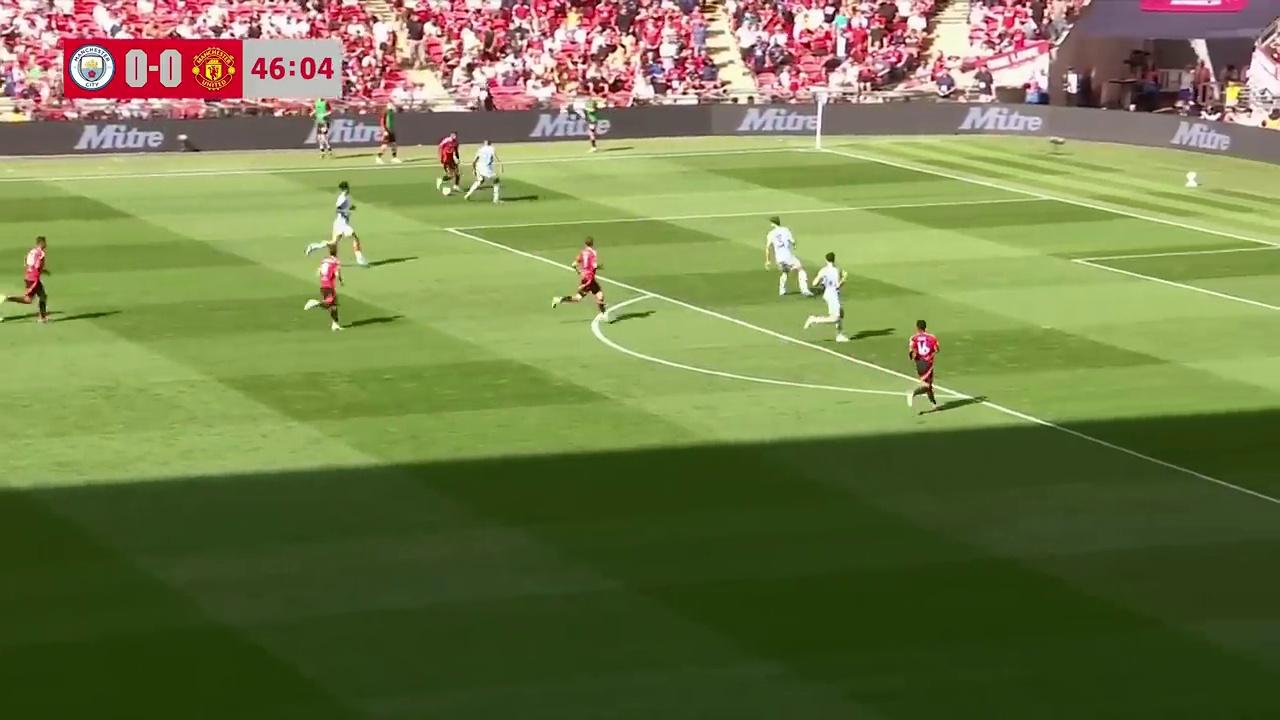ball: (440, 181, 451, 198)
player: (766, 218, 813, 299), (561, 237, 607, 311), (304, 243, 343, 330), (810, 251, 847, 338), (907, 319, 940, 414), (465, 140, 503, 203), (23, 236, 50, 322), (332, 181, 362, 252), (436, 133, 460, 195)
